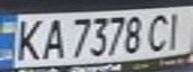3: (87, 14, 112, 57)
7: (66, 15, 90, 60), (106, 12, 127, 56)
8: (124, 12, 148, 54)
A: (39, 16, 69, 61)
C: (145, 10, 175, 52)
I: (163, 8, 193, 50)
K: (9, 16, 48, 62)
